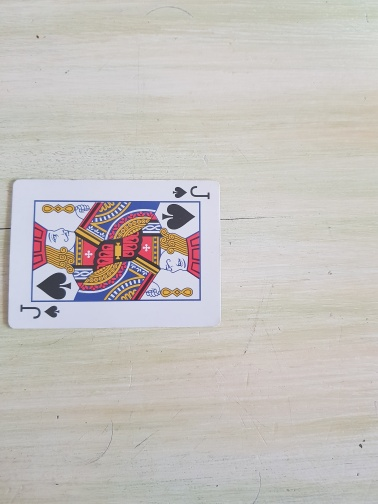jack: (6, 179, 222, 332)
